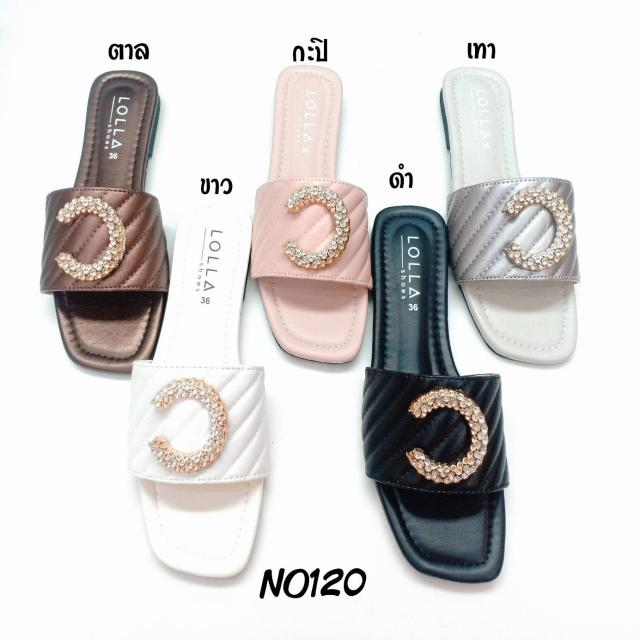black: (364, 208, 507, 572)
grey: (432, 66, 580, 366)
kapi: (245, 62, 371, 364)
tarn: (45, 68, 172, 375)
white: (131, 208, 263, 586)
